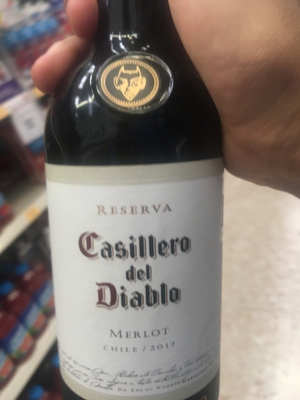casillero del diablo merlot: (42, 11, 229, 400)
